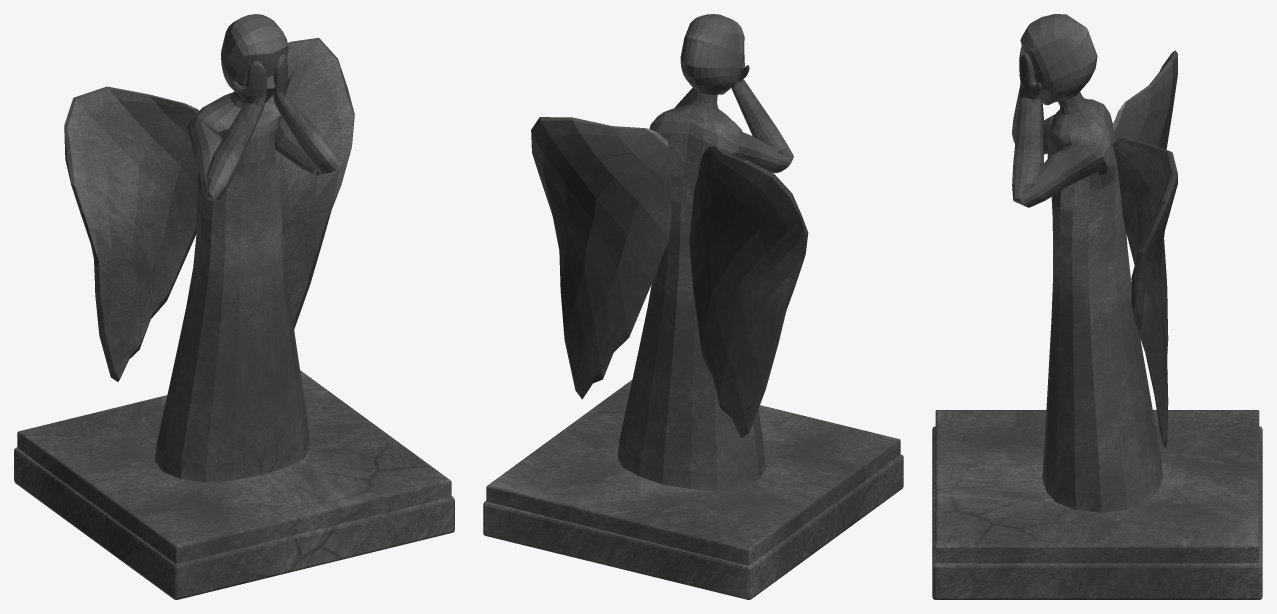
The model's file is AngelStatue002_Model.fbx.
The picture shows the model from 3 angles, left to right: view 1: azimuth 30°, elevation 25°; view 2: azimuth 150°, elevation 25°; view 3: azimuth 270°, elevation 25°; orthographic projection. The views are drawn at different scales.
Parts seen in each view (by area): view 1: AngelStatue002; view 2: AngelStatue002; view 3: AngelStatue002.
Boxes of the visible parts, box(x1,y1,x2,y2) form: AngelStatue002: box(14, 14, 454, 599); AngelStatue002: box(483, 14, 903, 599); AngelStatue002: box(932, 14, 1262, 599).
Size of the model in its own units: 166 by 281 by 164.
